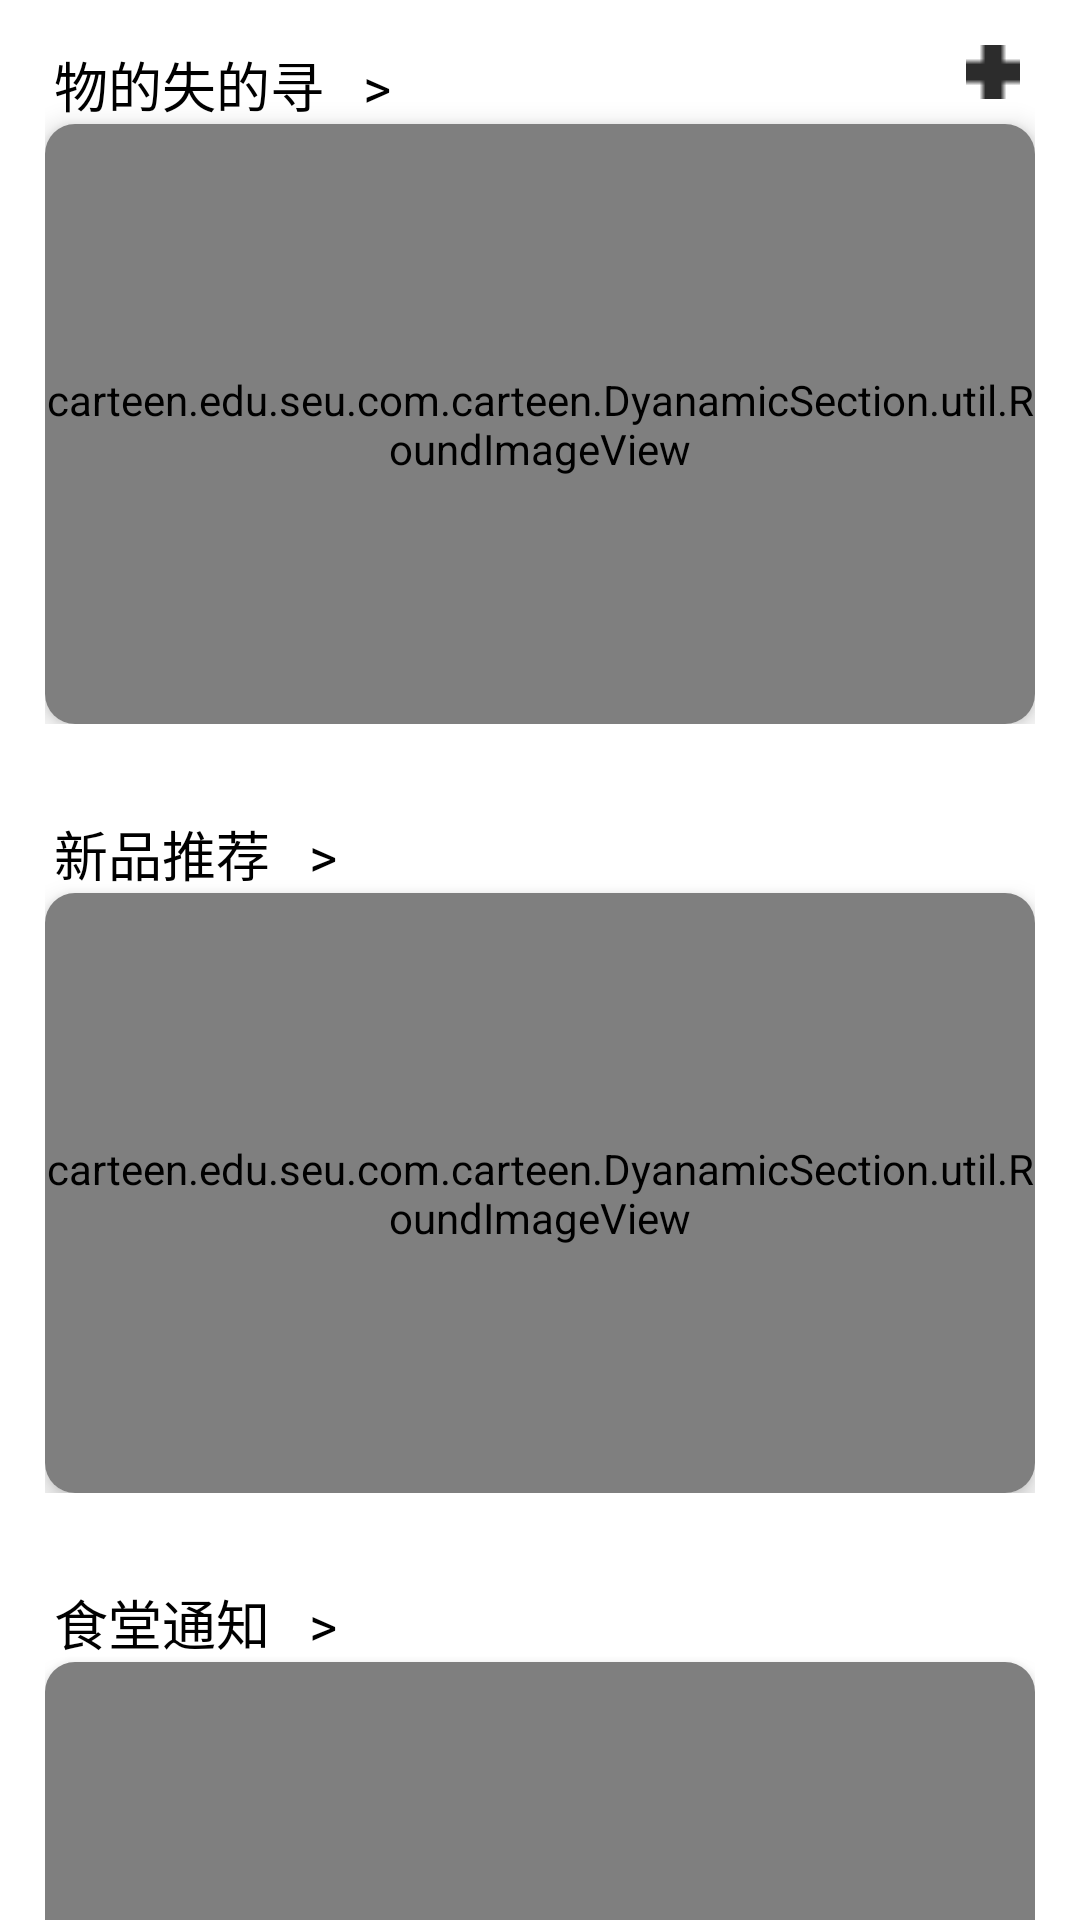

Icons on this 1080x1920 Android screen, each with the point to tap as (x=x, y=y):
add: (x=993, y=72)
